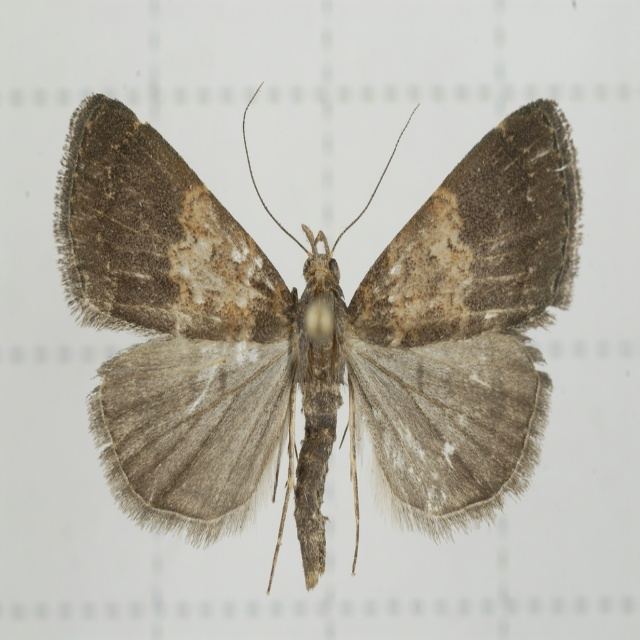Butterfly: (61, 60, 586, 615)
